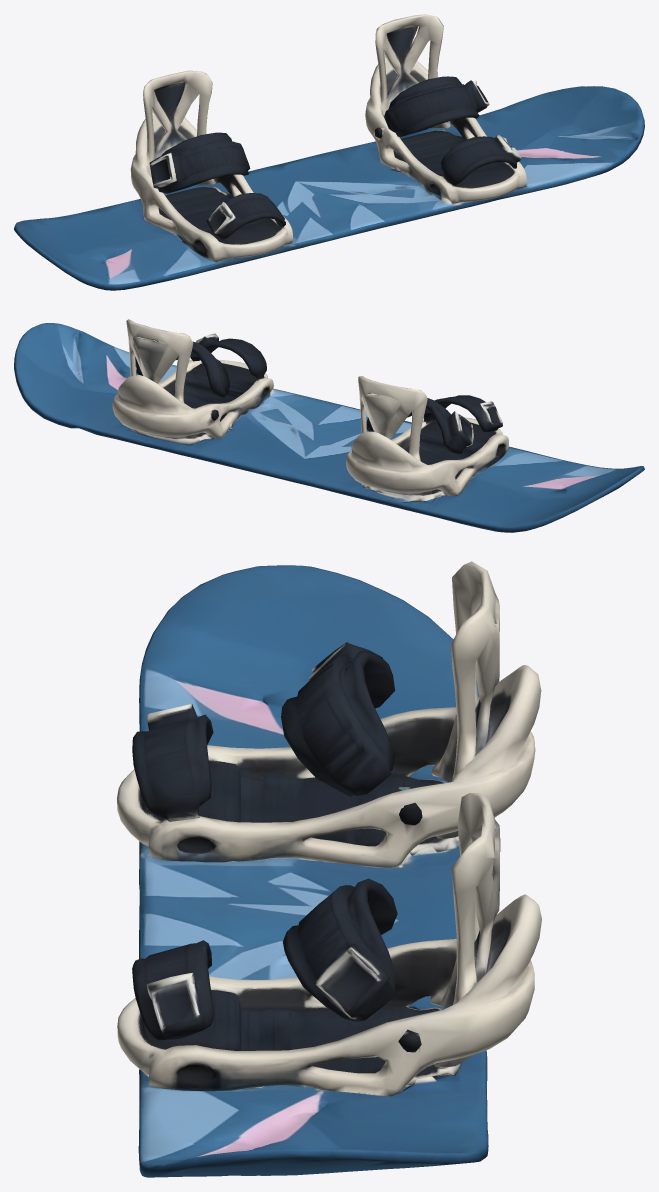
The model's file is board-assembly-seg-tex2k-v01.glb.
The picture shows the model from 3 angles, top to bottom: view 1: azimuth 30°, elevation 25°; view 2: azimuth 150°, elevation 25°; view 3: azimuth 270°, elevation 25°; orthographic projection. The views are drawn at different scales.
Parts seen in each view (by area): view 1: tripo_part_0, tripo_part_1, tripo_part_2, tripo_part_3, tripo_part_4, tripo_part_6, tripo_part_7; view 2: tripo_part_0, tripo_part_1, tripo_part_2, tripo_part_4, tripo_part_6, tripo_part_7, tripo_part_3; view 3: tripo_part_0, tripo_part_2, tripo_part_1, tripo_part_4, tripo_part_3, tripo_part_7, tripo_part_6.
Part boxes in pixels (left/top/right/bottom): tripo_part_0: left=14, top=86, right=644, bottom=290; tripo_part_1: left=130, top=70, right=292, bottom=261; tripo_part_2: left=365, top=14, right=526, bottom=204; tripo_part_3: left=384, top=76, right=489, bottom=136; tripo_part_4: left=149, top=132, right=250, bottom=193; tripo_part_6: left=441, top=134, right=520, bottom=186; tripo_part_7: left=206, top=193, right=285, bottom=239; tripo_part_0: left=14, top=323, right=644, bottom=532; tripo_part_1: left=346, top=376, right=508, bottom=502; tripo_part_2: left=112, top=319, right=273, bottom=444; tripo_part_4: left=366, top=398, right=473, bottom=454; tripo_part_6: left=190, top=333, right=266, bottom=381; tripo_part_7: left=423, top=395, right=502, bottom=431; tripo_part_3: left=135, top=341, right=229, bottom=397; tripo_part_0: left=138, top=565, right=488, bottom=1177; tripo_part_2: left=117, top=793, right=541, bottom=1096; tripo_part_1: left=117, top=561, right=541, bottom=867; tripo_part_4: left=281, top=642, right=394, bottom=796; tripo_part_3: left=282, top=878, right=397, bottom=1021; tripo_part_7: left=132, top=704, right=213, bottom=821; tripo_part_6: left=132, top=940, right=214, bottom=1040.
Bounding box in the file's own units: 1 × 0.1967 × 0.3059.
1 material, 1 textured.
